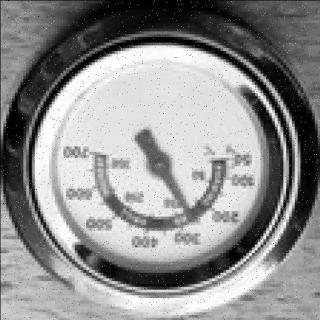gauge: (0, 0, 320, 320), (201, 142, 240, 173), (84, 138, 119, 168), (144, 150, 175, 180), (184, 214, 200, 226)
